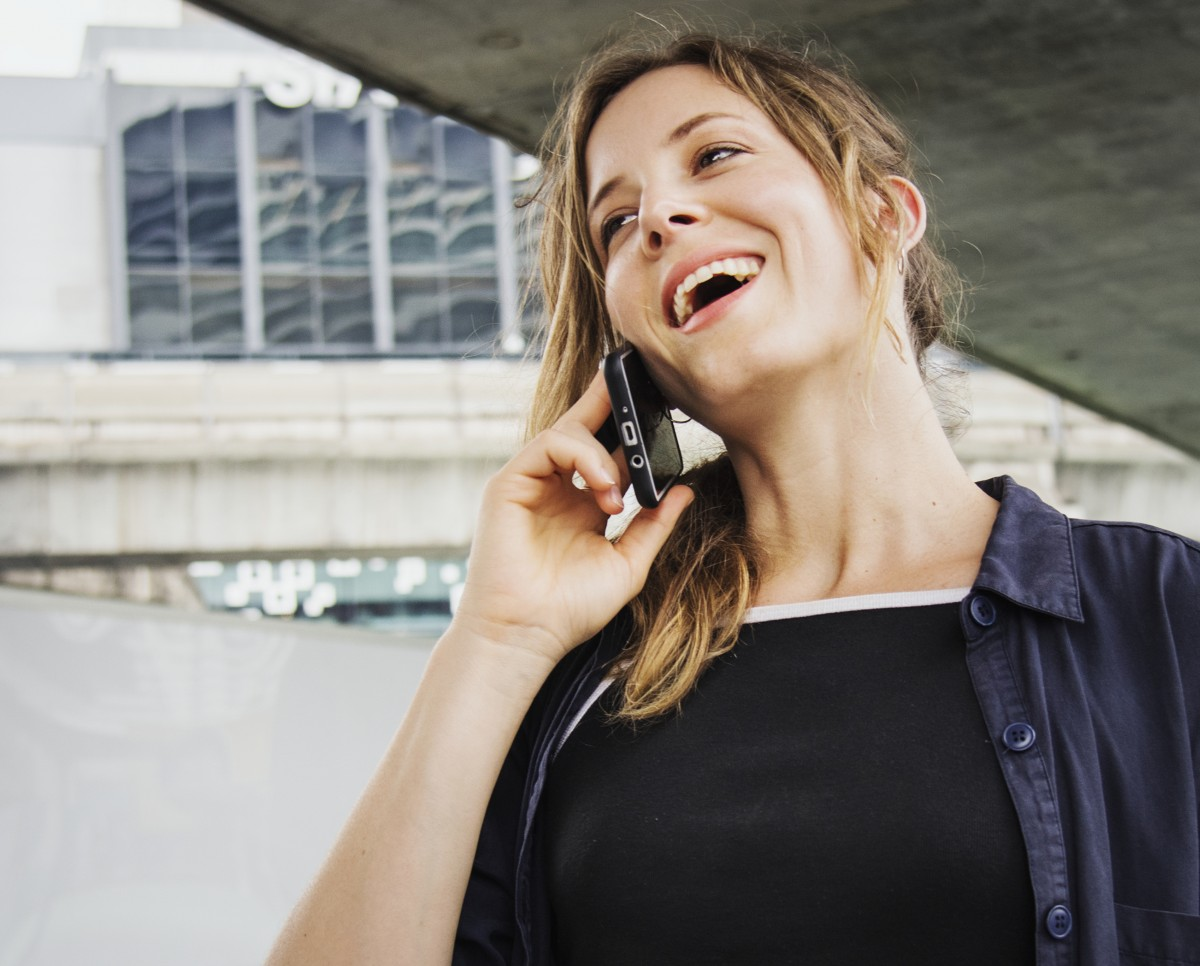phone: (546, 334, 685, 545)
talk: (477, 103, 852, 595)
